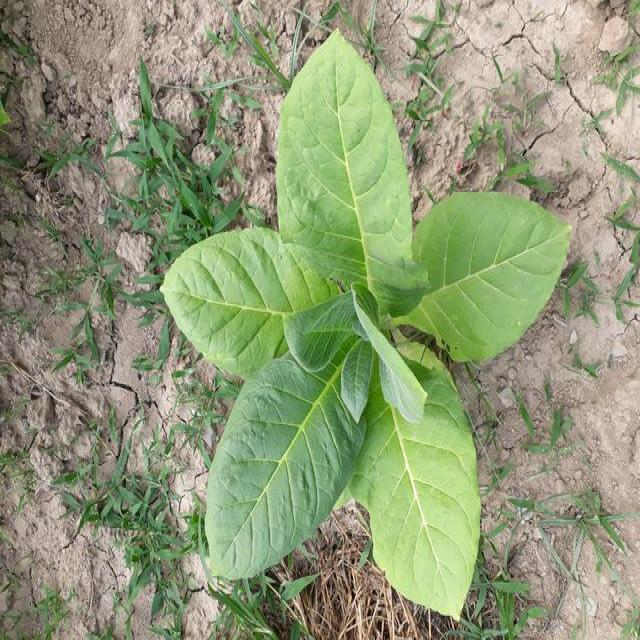crop: (162, 28, 574, 625)
